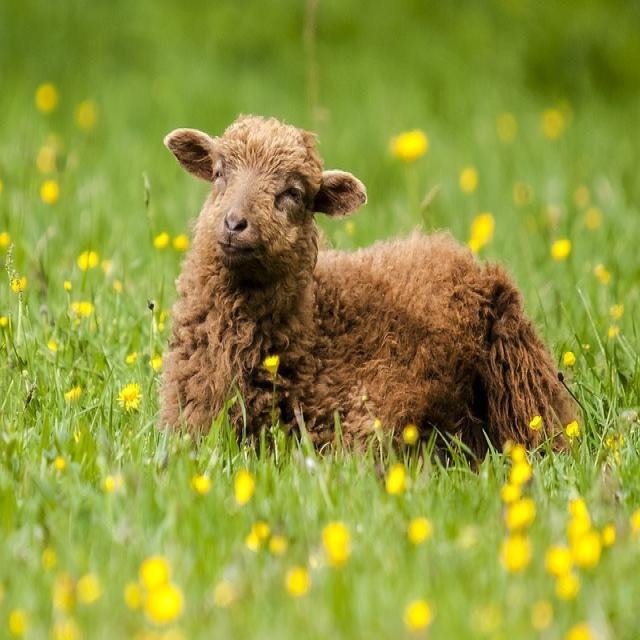goat: (158, 113, 582, 468)
